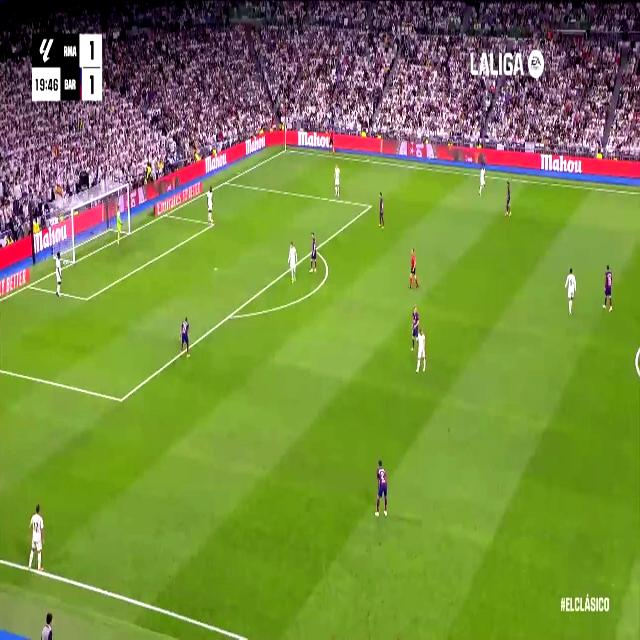bigarea_bottom_inner: (116, 388, 125, 410)
bigarea_top_inner: (368, 200, 372, 212)
bigarea_top_outter: (224, 177, 228, 186)
bottom_arc_area_intersection: (226, 306, 235, 324)
corner: (282, 144, 290, 153)
smallarea_bottom_inner: (83, 290, 91, 307)
smallarea_bottom_outter: (26, 279, 32, 290)
smallarea_top_inner: (210, 218, 215, 227)
